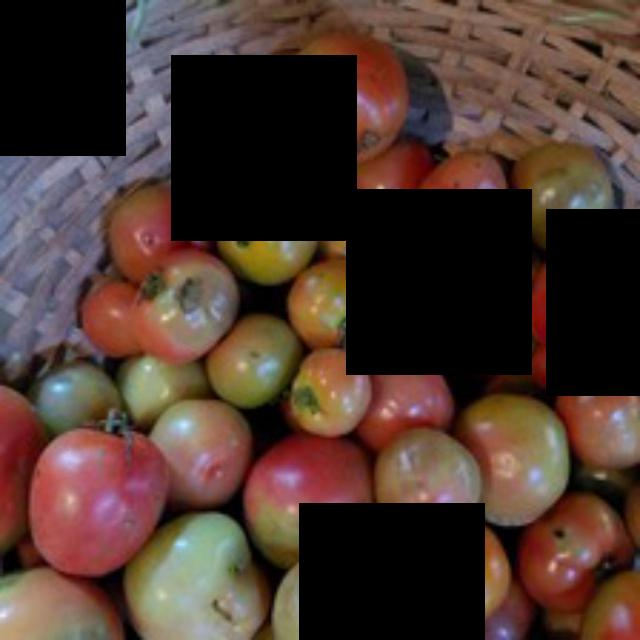tomato: (27, 424, 176, 579), (284, 36, 422, 163)
